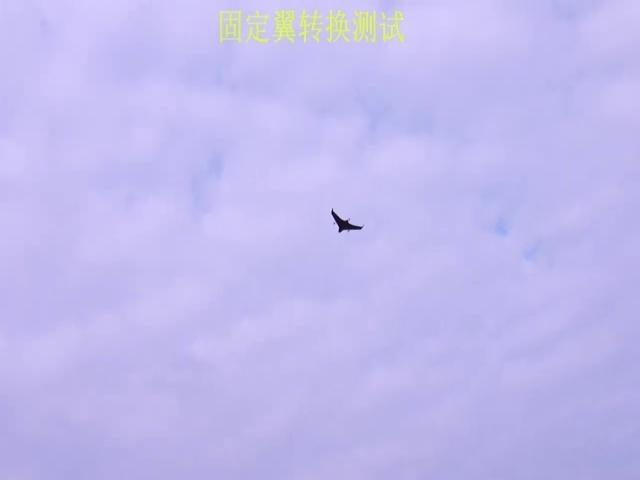Airplane: (330, 209, 364, 234)
